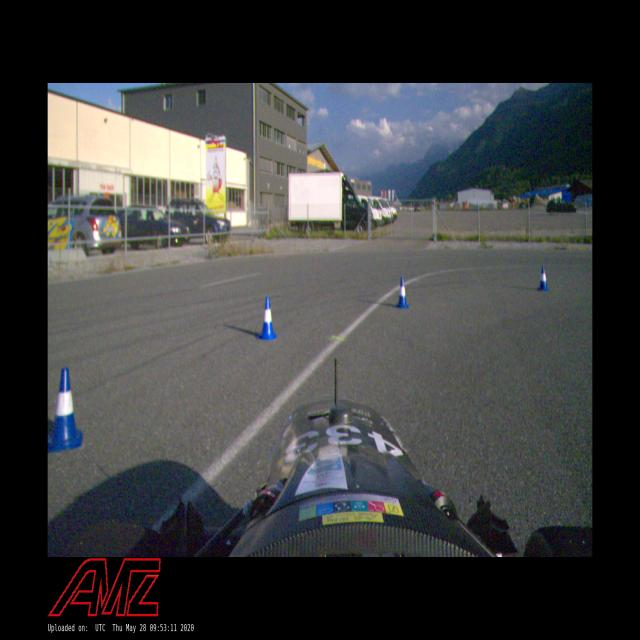blue_cone: (48, 368, 83, 452), (258, 297, 276, 340), (396, 277, 408, 309), (538, 265, 548, 291)
